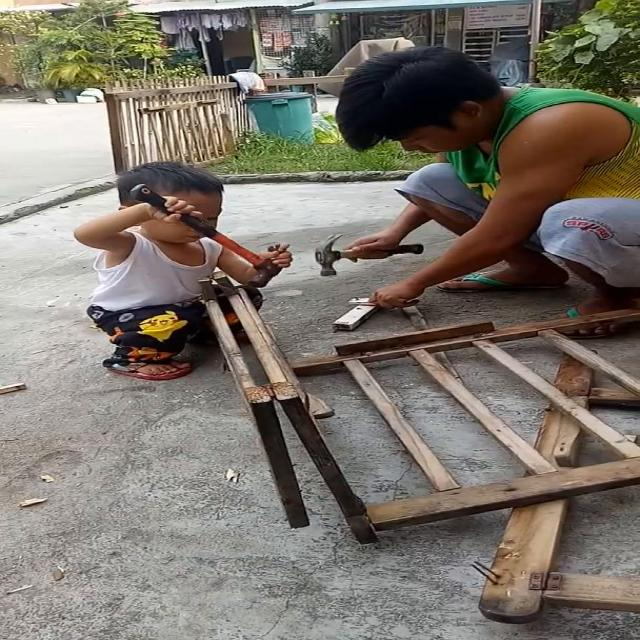hammer: (125, 183, 283, 290), (314, 234, 424, 278)
